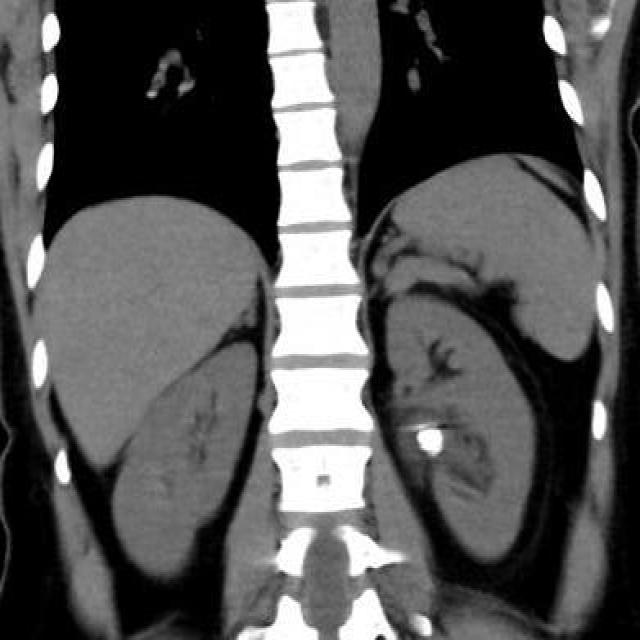Tas_Var: (417, 426, 442, 456), (414, 421, 426, 431), (433, 446, 443, 454)
